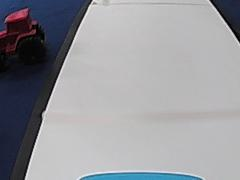Tracktor: (1, 4, 47, 65)
